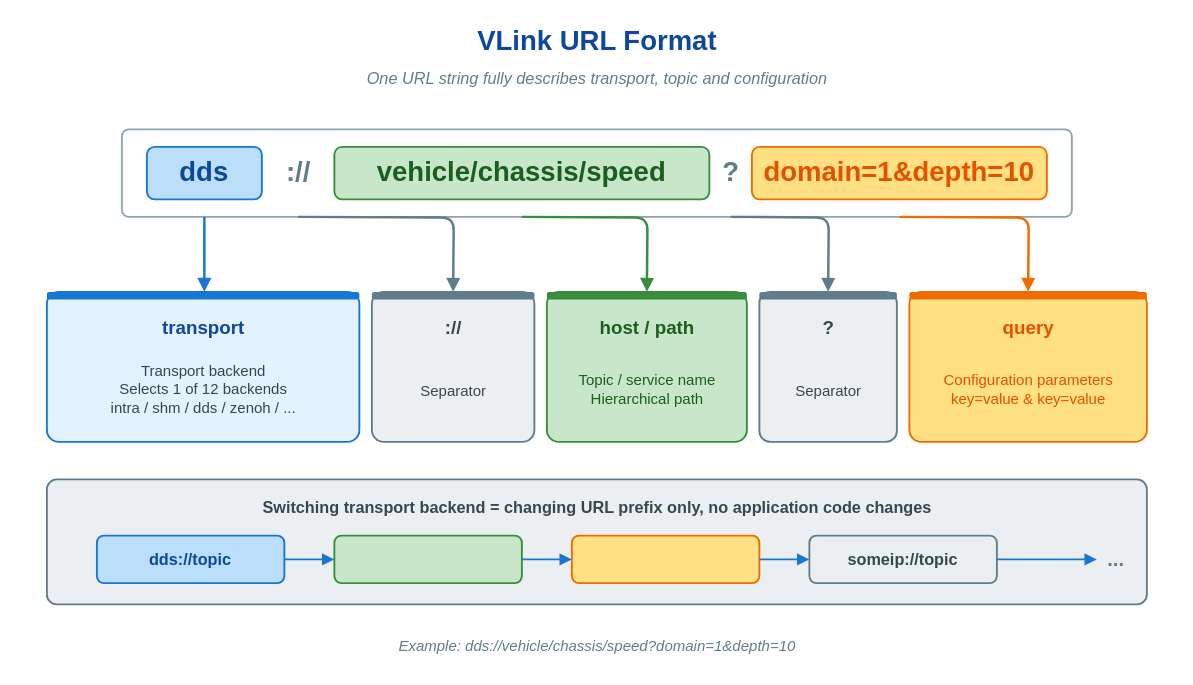
The diagram is 1193 pixels wide and 685 high, and some of its shapes have lost their labels. Here are the shapes that lost their labels. From the top down, the box of each, then its label:
(333, 534, 522, 584): shm://topic
(570, 534, 760, 584): zenoh://topic
